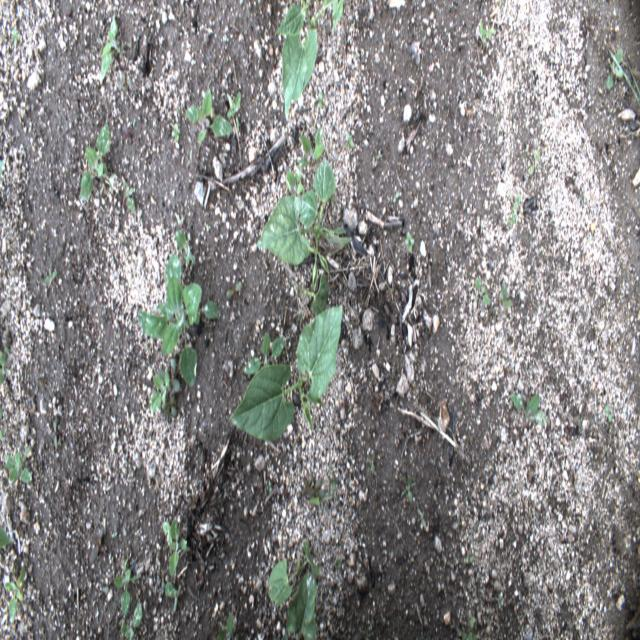crop: (256, 158, 352, 322), (230, 307, 344, 441), (274, 0, 345, 123), (268, 538, 321, 609), (284, 566, 318, 639)
weed: (138, 252, 220, 389), (80, 122, 120, 200), (186, 87, 233, 145), (243, 330, 286, 376), (112, 555, 142, 619), (161, 516, 190, 577), (510, 390, 549, 427), (100, 14, 120, 84), (3, 563, 25, 623), (3, 444, 33, 488), (295, 124, 324, 165), (148, 368, 175, 412), (120, 598, 144, 639), (606, 45, 624, 91), (470, 276, 492, 306), (227, 91, 241, 134), (287, 165, 304, 200), (493, 283, 513, 312), (507, 191, 523, 227), (302, 478, 329, 497), (215, 613, 234, 639), (478, 19, 496, 46), (0, 343, 10, 388), (402, 473, 416, 505), (460, 617, 478, 639), (163, 578, 178, 600), (0, 524, 11, 552), (404, 230, 416, 255), (227, 280, 243, 298), (366, 449, 376, 476), (416, 507, 426, 532), (170, 121, 180, 142), (604, 404, 612, 424), (463, 554, 475, 567), (346, 130, 353, 150), (498, 590, 506, 607), (267, 480, 273, 495)
